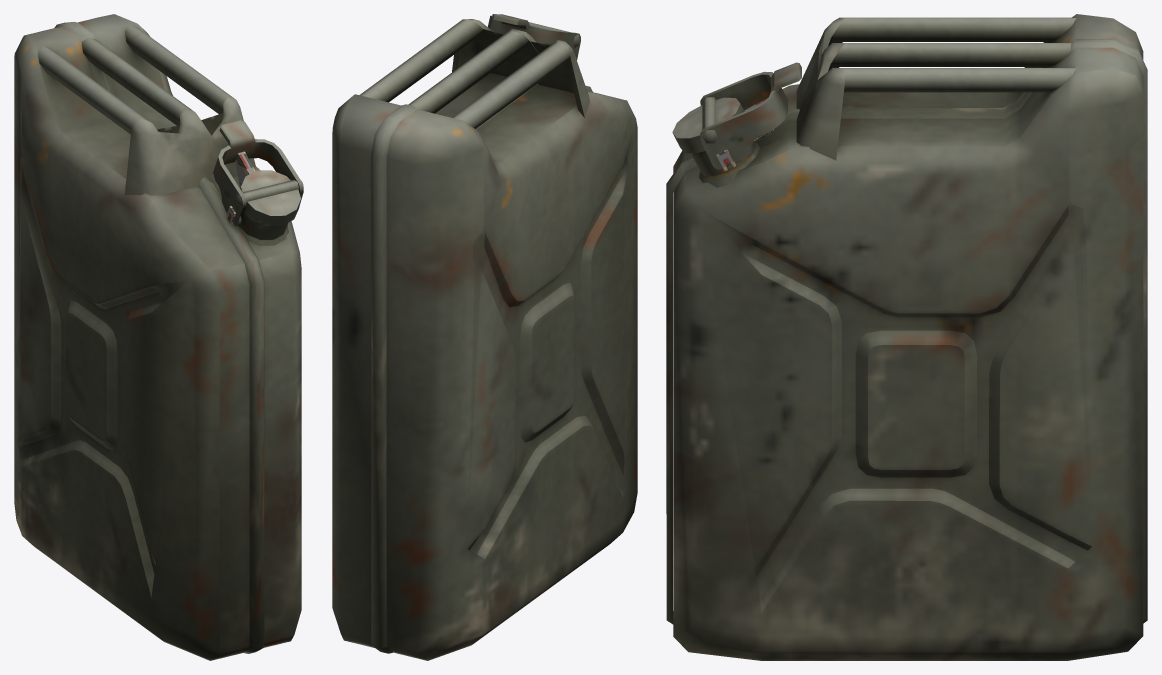
The model's file is jerrycan01_prp.fbx.
3 views of the same model, side by side, from view 1: azimuth 30°, elevation 25°; view 2: azimuth 150°, elevation 25°; view 3: azimuth 270°, elevation 25° (orthographic). The views are drawn at different scales.
Visible parts, largest first — view 1: jerrycan_nato01_prp; view 2: jerrycan_nato01_prp; view 3: jerrycan_nato01_prp.
Boxes of the visible parts, bbox=[...] form: jerrycan_nato01_prp: bbox=[14, 14, 303, 660]; jerrycan_nato01_prp: bbox=[332, 14, 637, 660]; jerrycan_nato01_prp: bbox=[666, 14, 1147, 660].
Bounding box in the file's own units: 0.1506 × 0.5253 × 0.3897.
